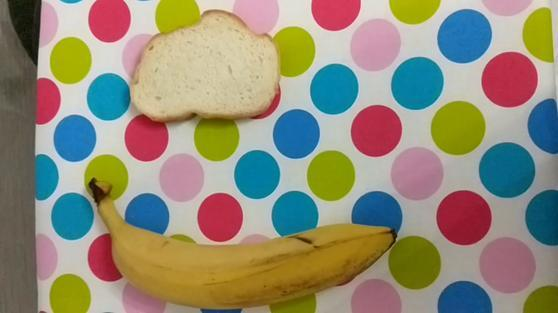banana: (78, 163, 406, 313)
white_bread: (123, 7, 289, 126)
